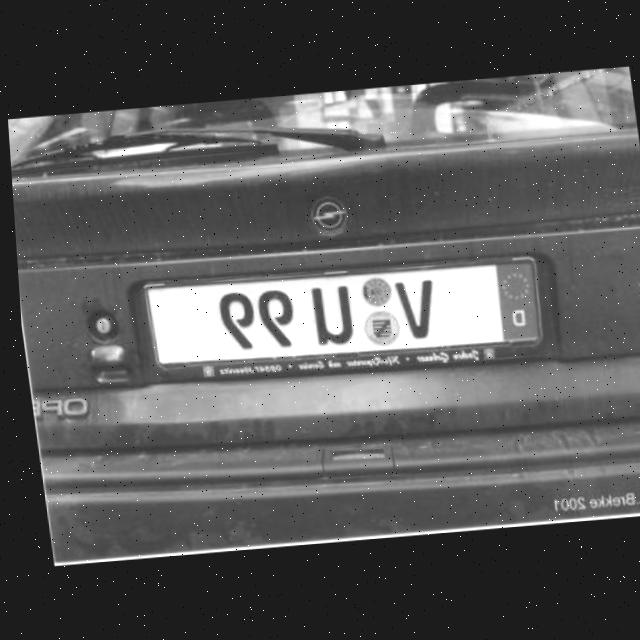license-plates: (144, 258, 541, 367)
